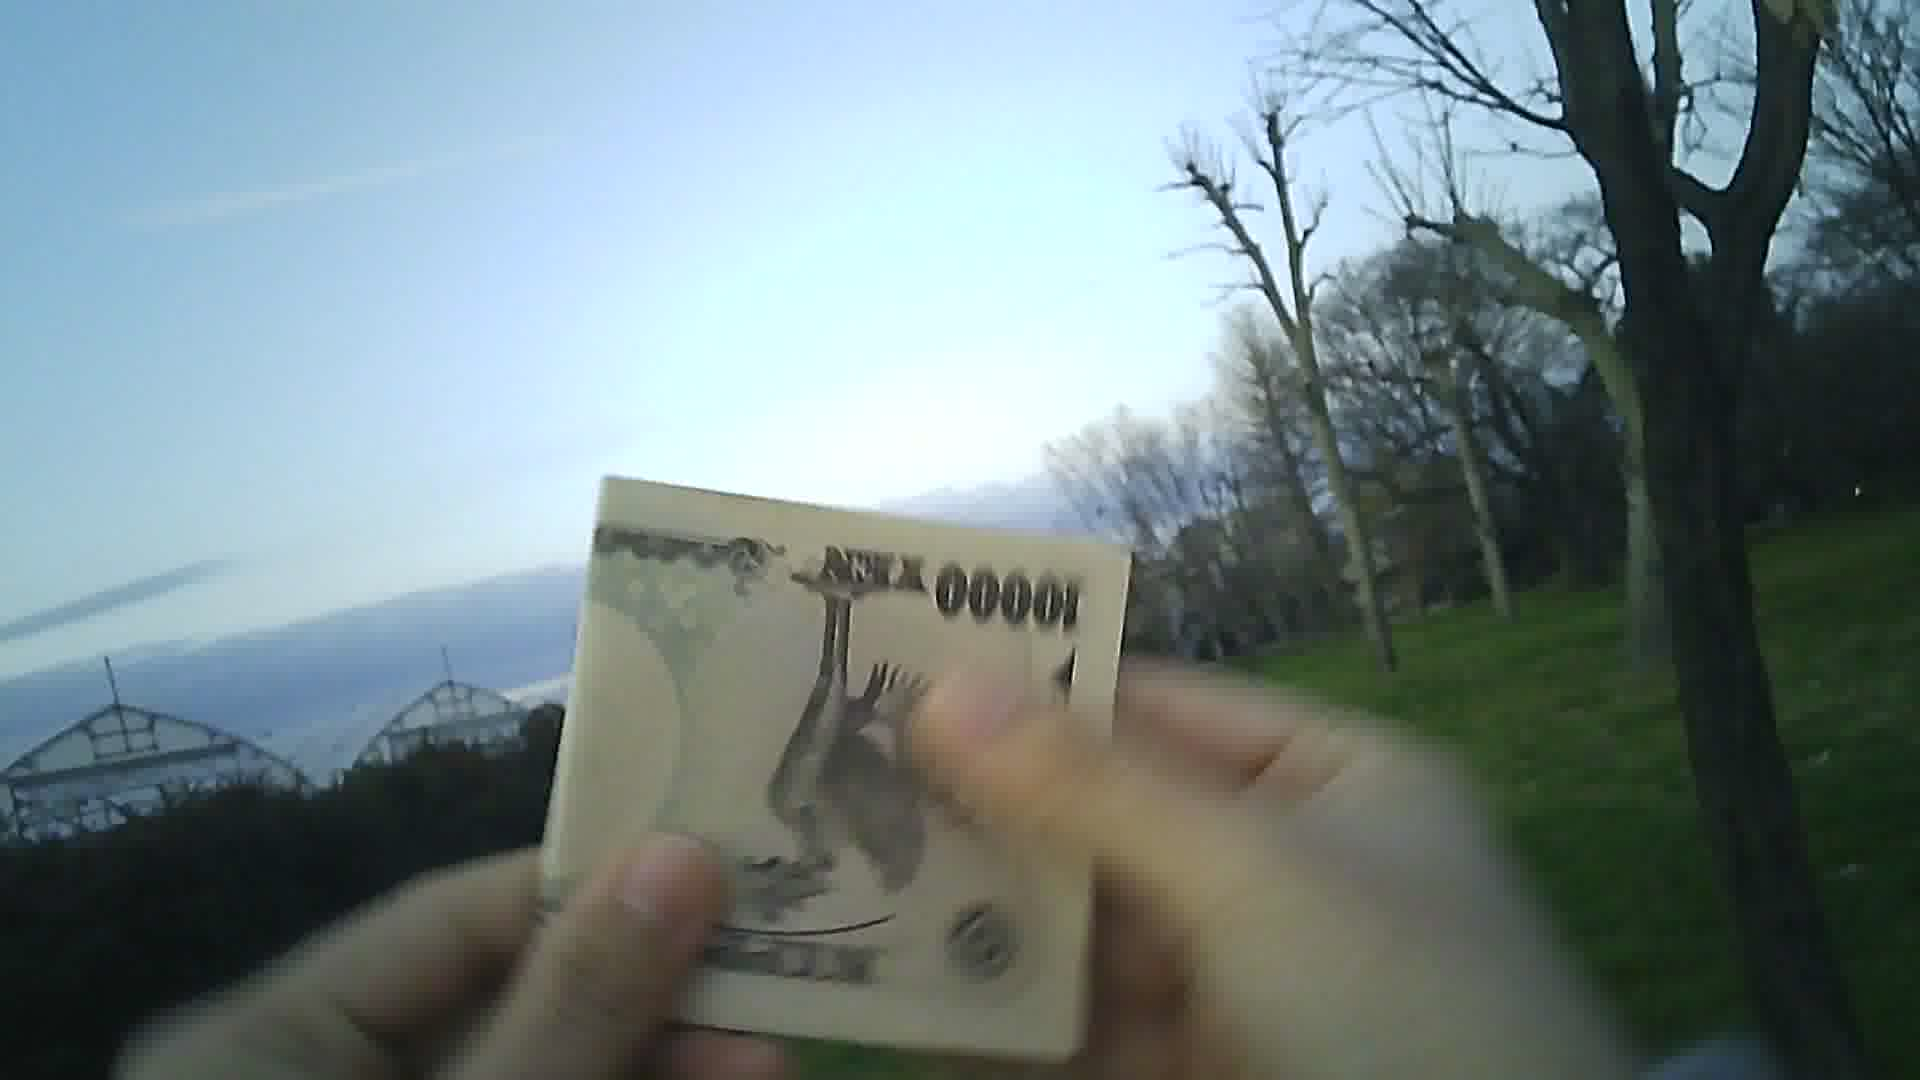10,000 Yen: (559, 446, 1182, 1056)
